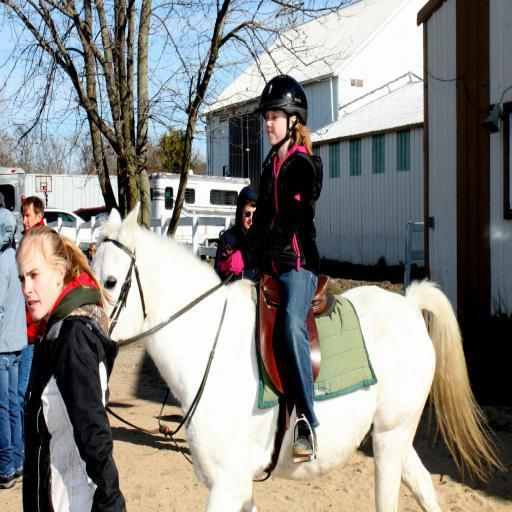horse: (86, 200, 510, 512)
